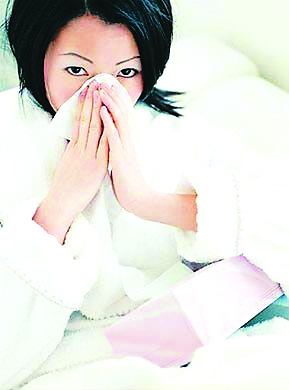face_mask: (47, 20, 142, 156)
